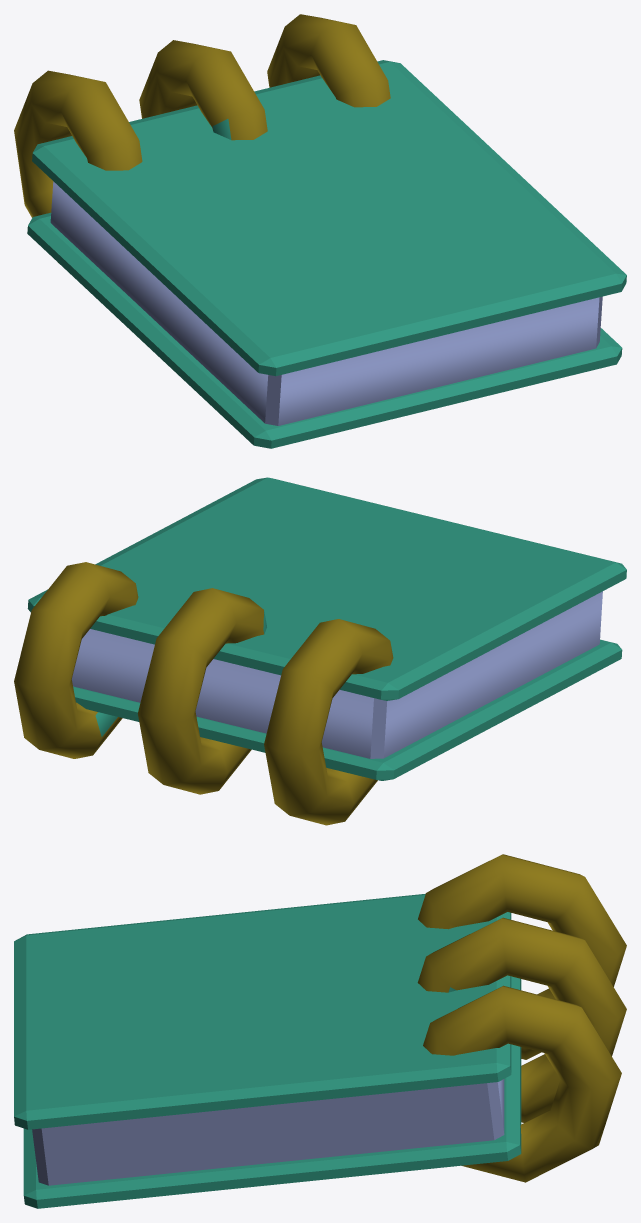
The picture shows the model from 3 angles, top to bottom: view 1: azimuth 30°, elevation 25°; view 2: azimuth 150°, elevation 25°; view 3: azimuth 270°, elevation 25°; orthographic projection. The views are drawn at different scales.
Parts seen in each view (by area): view 1: Obj3d66-4843731-12-829; view 2: Obj3d66-4843731-12-829; view 3: Obj3d66-4843731-12-829.
Boxes of the visible parts, x1,y1,x2,y2 form: Obj3d66-4843731-12-829: (14,14,626,448); Obj3d66-4843731-12-829: (14,477,626,825); Obj3d66-4843731-12-829: (14,854,626,1208).
Bounding box in the file's own units: 6926 × 3530 × 9618.
